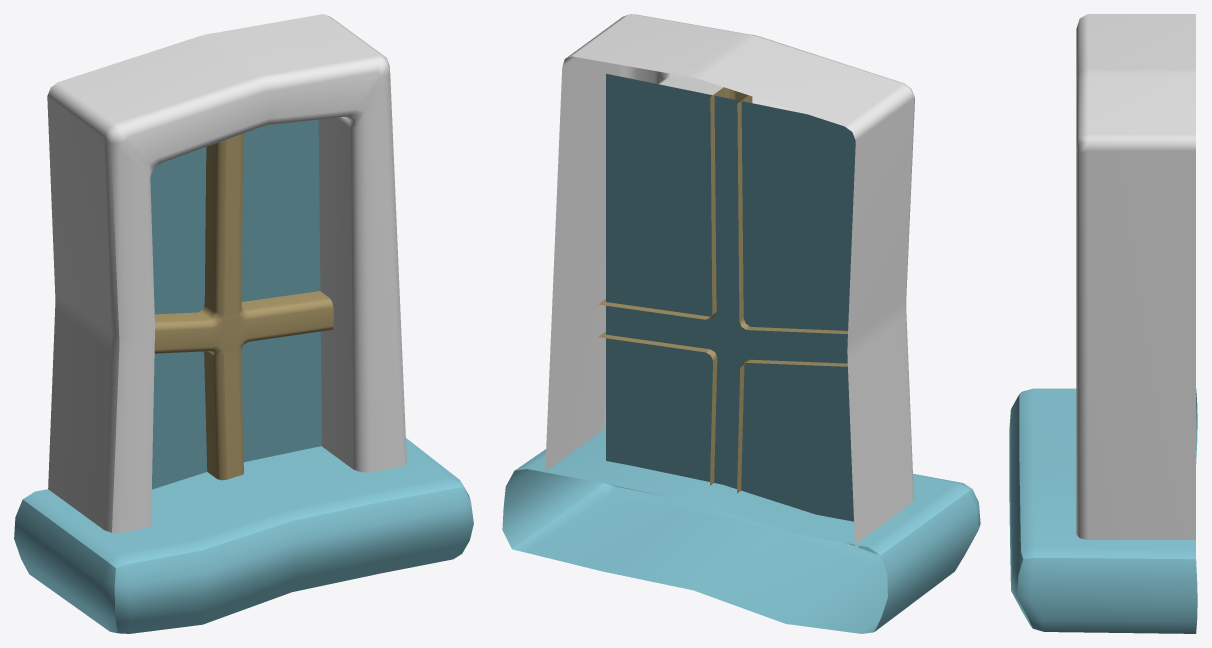
The model's file is fenetre_b.fbx.
3 renders of one model, left to right at view 1: azimuth 30°, elevation 25°; view 2: azimuth 150°, elevation 25°; view 3: azimuth 270°, elevation 25°, orthographic. The views are drawn at different scales.
Parts seen in each view (by area): view 1: fenetre_02; view 2: fenetre_02; view 3: fenetre_02.
Part boxes in pixels (x1,y1,x2,y2): fenetre_02: (14, 14, 473, 633); fenetre_02: (502, 14, 980, 633); fenetre_02: (1009, 14, 1197, 633).
Size of the model in its own units: 2.17 by 2.82 by 0.9867.
